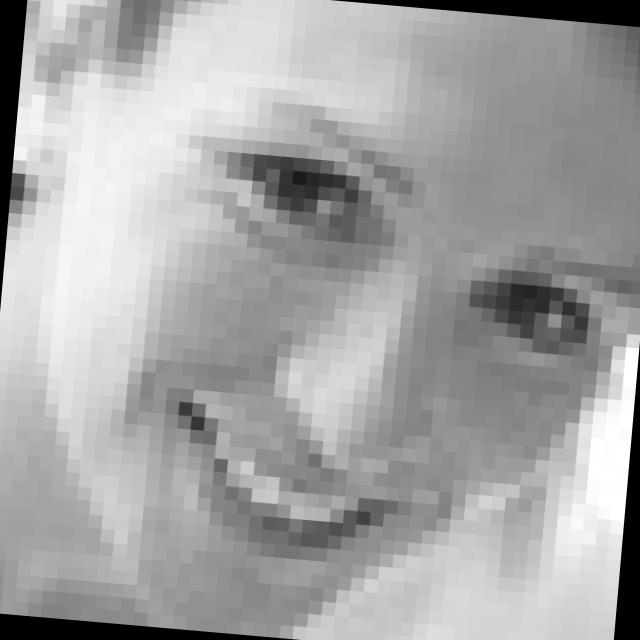happy: (165, 87, 640, 592)
